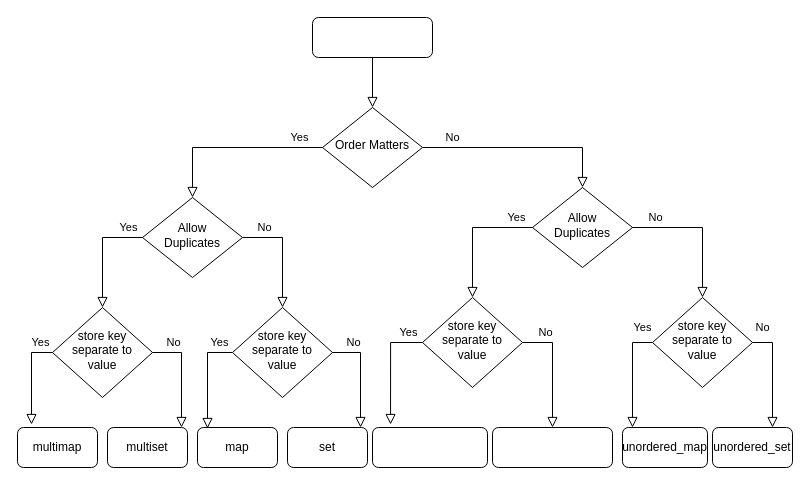
Image size: 810x485. Some labels were removed from this diagram. The shapes that lost their labels are listed below. From the top down, each one's box as (x1, y1, x2, y2) in pixels, then its label:
(312, 16, 432, 58): start
(372, 426, 488, 468): unordered_multimap
(492, 426, 612, 468): unordered_multiset
